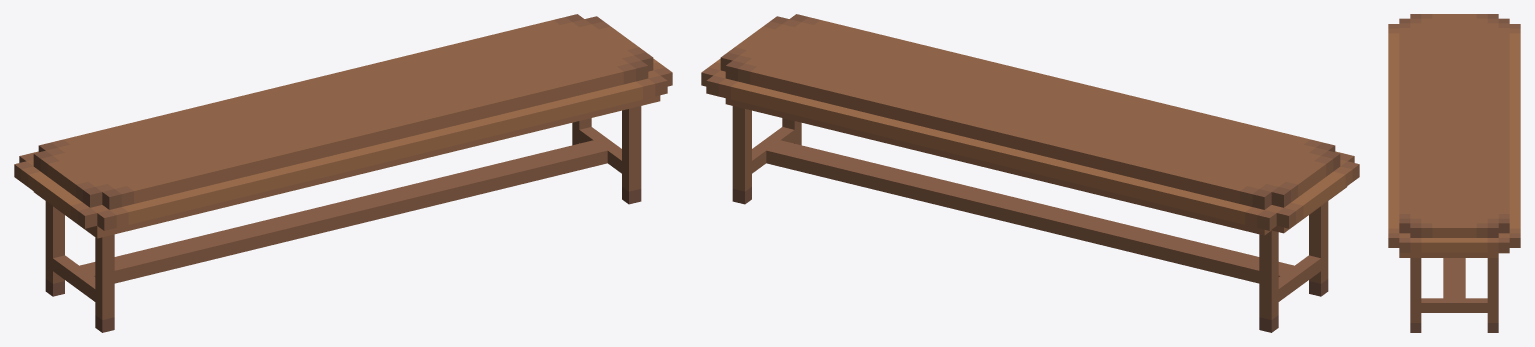
Rendered from Interior_Furniture_Table_Long_Type03_3x1.obj.
The picture shows the model from 3 angles, left to right: view 1: azimuth 30°, elevation 25°; view 2: azimuth 150°, elevation 25°; view 3: azimuth 270°, elevation 25°; orthographic projection. The views are drawn at different scales.
Bounding box in the file's own units: 4.8 × 1.1 × 1.2.
Materials: 1 (1 with a texture image).
